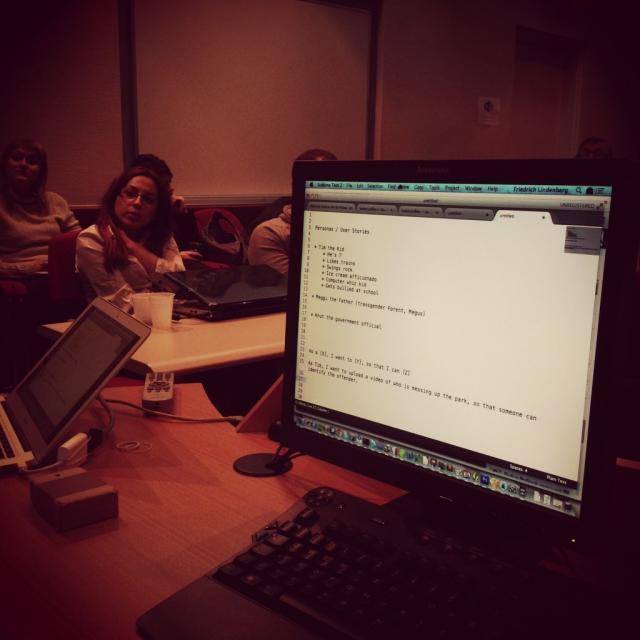others: (138, 150, 640, 635)
